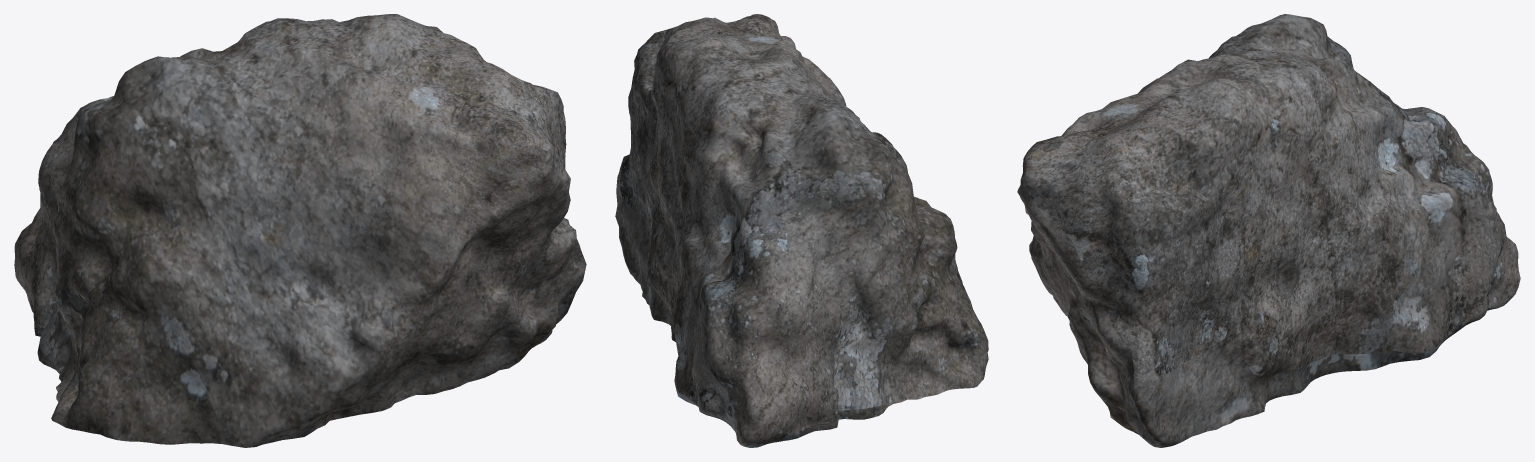
3 views of the same model, side by side, from view 1: azimuth 30°, elevation 25°; view 2: azimuth 150°, elevation 25°; view 3: azimuth 270°, elevation 25° (orthographic). The views are drawn at different scales.
Parts seen in each view (by area): view 1: Object_2; view 2: Object_2; view 3: Object_2.
Boxes of the visible parts, bbox=[...] form: Object_2: bbox=[14, 14, 586, 447]; Object_2: bbox=[615, 14, 988, 447]; Object_2: bbox=[1017, 14, 1520, 447].
Size of the model in its own units: 8.27 by 5.36 by 7.9.
1 material, 1 textured.
